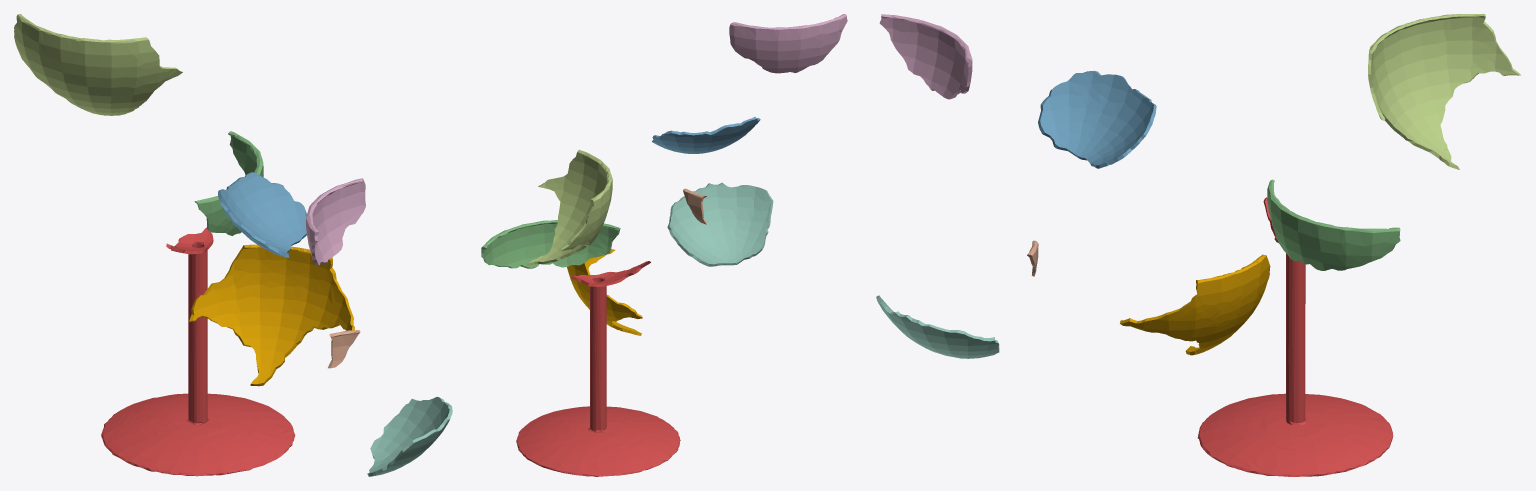
File: mode_14_8pcs_transformed.glb
3 renders of one model, left to right at view 1: azimuth 30°, elevation 25°; view 2: azimuth 150°, elevation 25°; view 3: azimuth 270°, elevation 25°, orthographic. The views are drawn at different scales.
Visible parts, largest first — view 1: piece_1.obj, piece_0.obj, piece_5.obj, piece_2.obj, piece_4.obj, piece_6.obj, piece_3.obj, piece_7.obj; view 2: piece_1.obj, piece_4.obj, piece_5.obj, piece_6.obj, piece_3.obj, piece_2.obj, piece_0.obj, piece_7.obj; view 3: piece_1.obj, piece_5.obj, piece_2.obj, piece_0.obj, piece_3.obj, piece_6.obj, piece_4.obj.
Part boxes in pixels (left/top/right/bottom): piece_1.obj: left=101, top=227, right=295, bottom=476; piece_0.obj: left=189, top=244, right=354, bottom=386; piece_5.obj: left=14, top=14, right=182, bottom=115; piece_2.obj: left=218, top=172, right=306, bottom=257; piece_4.obj: left=367, top=397, right=452, bottom=476; piece_6.obj: left=306, top=178, right=365, bottom=265; piece_3.obj: left=194, top=131, right=263, bottom=235; piece_7.obj: left=328, top=330, right=360, bottom=368; piece_1.obj: left=516, top=261, right=680, bottom=476; piece_4.obj: left=667, top=182, right=773, bottom=266; piece_5.obj: left=526, top=150, right=612, bottom=266; piece_6.obj: left=729, top=14, right=847, bottom=73; piece_3.obj: left=481, top=220, right=620, bottom=268; piece_2.obj: left=652, top=117, right=760, bottom=153; piece_0.obj: left=567, top=249, right=642, bottom=335; piece_7.obj: left=683, top=188, right=706, bottom=224; piece_1.obj: left=1197, top=197, right=1393, bottom=476; piece_5.obj: left=1368, top=14, right=1520, bottom=169; piece_2.obj: left=1038, top=70, right=1156, bottom=168; piece_0.obj: left=1120, top=254, right=1270, bottom=355; piece_3.obj: left=1267, top=179, right=1400, bottom=270; piece_6.obj: left=879, top=14, right=972, bottom=99; piece_4.obj: left=876, top=295, right=999, bottom=358.
Bounding box in the file's own units: 0.6244 × 1.25 × 1.92.
